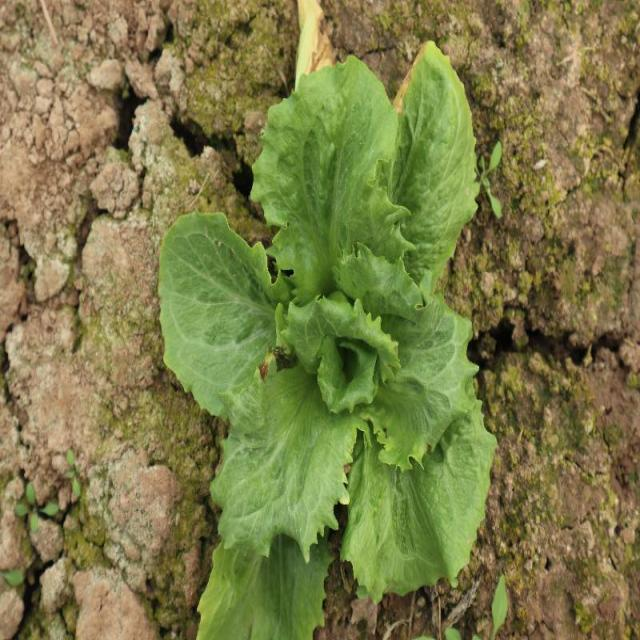crop: (156, 37, 500, 640)
